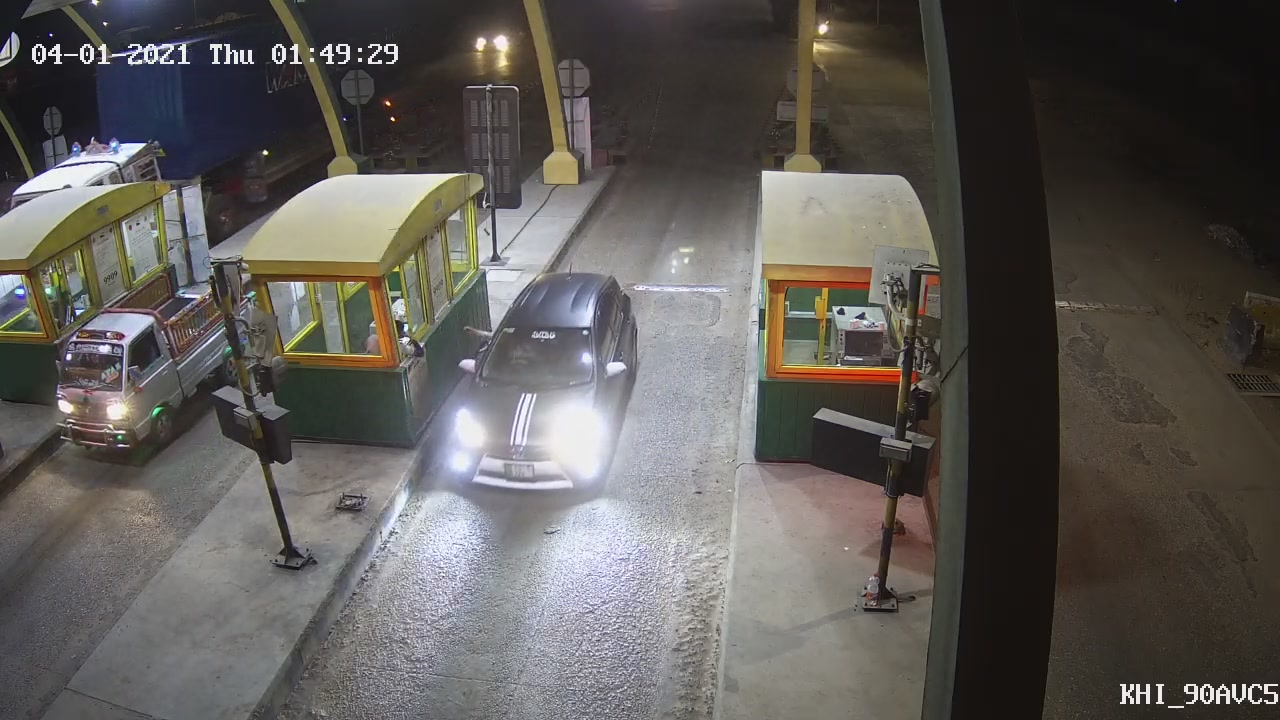F1: (441, 264, 647, 521)
